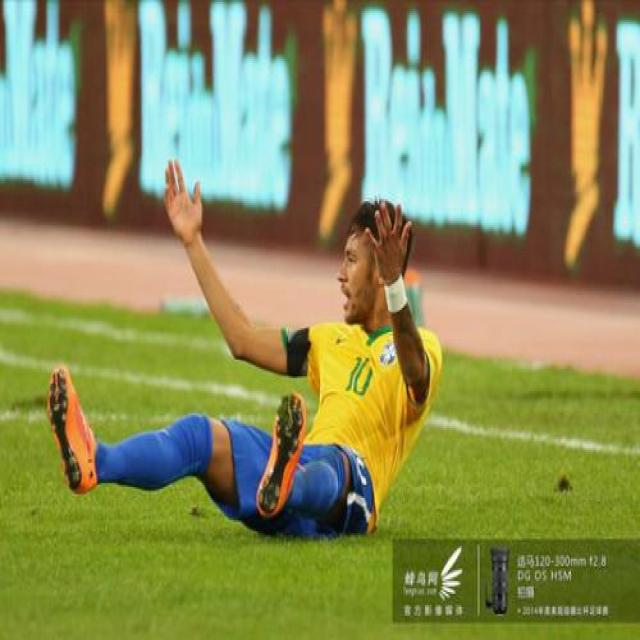down: (35, 133, 457, 544)
